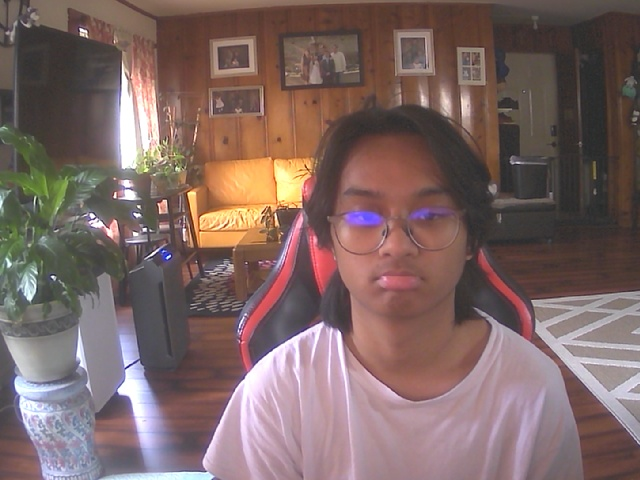sad: (328, 113, 481, 320)
